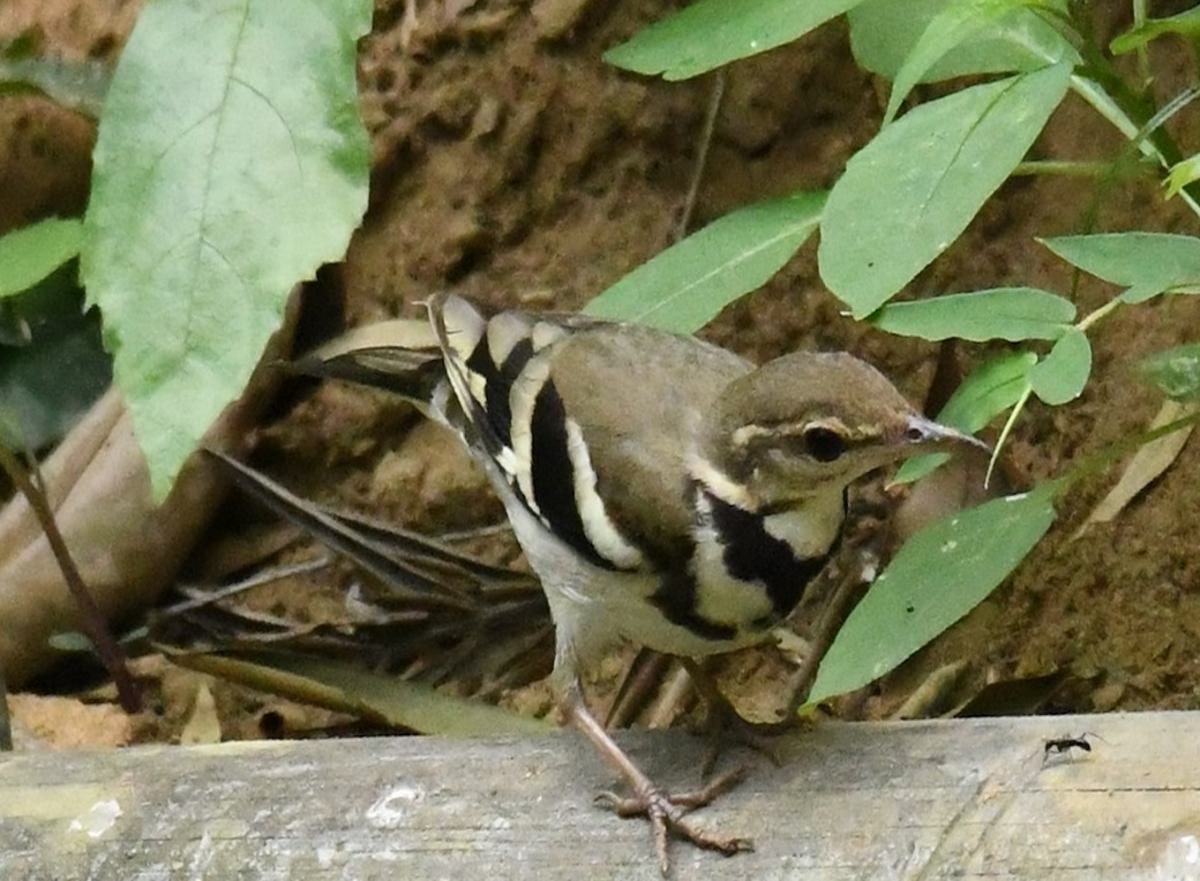wagtail: (363, 263, 979, 850)
